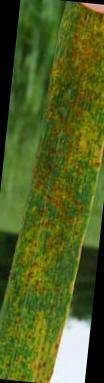Wheat: (65, 11, 104, 142), (17, 265, 47, 378), (39, 150, 89, 203), (33, 207, 79, 255)
